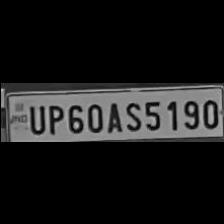0: (84, 100, 104, 132), (199, 96, 219, 128)
1: (163, 96, 179, 130)
5: (142, 96, 162, 130)
6: (64, 100, 82, 132)
9: (179, 96, 199, 128)
A: (103, 98, 121, 132)
P: (43, 101, 62, 135)
S: (121, 97, 141, 130)
U: (24, 100, 43, 134)
